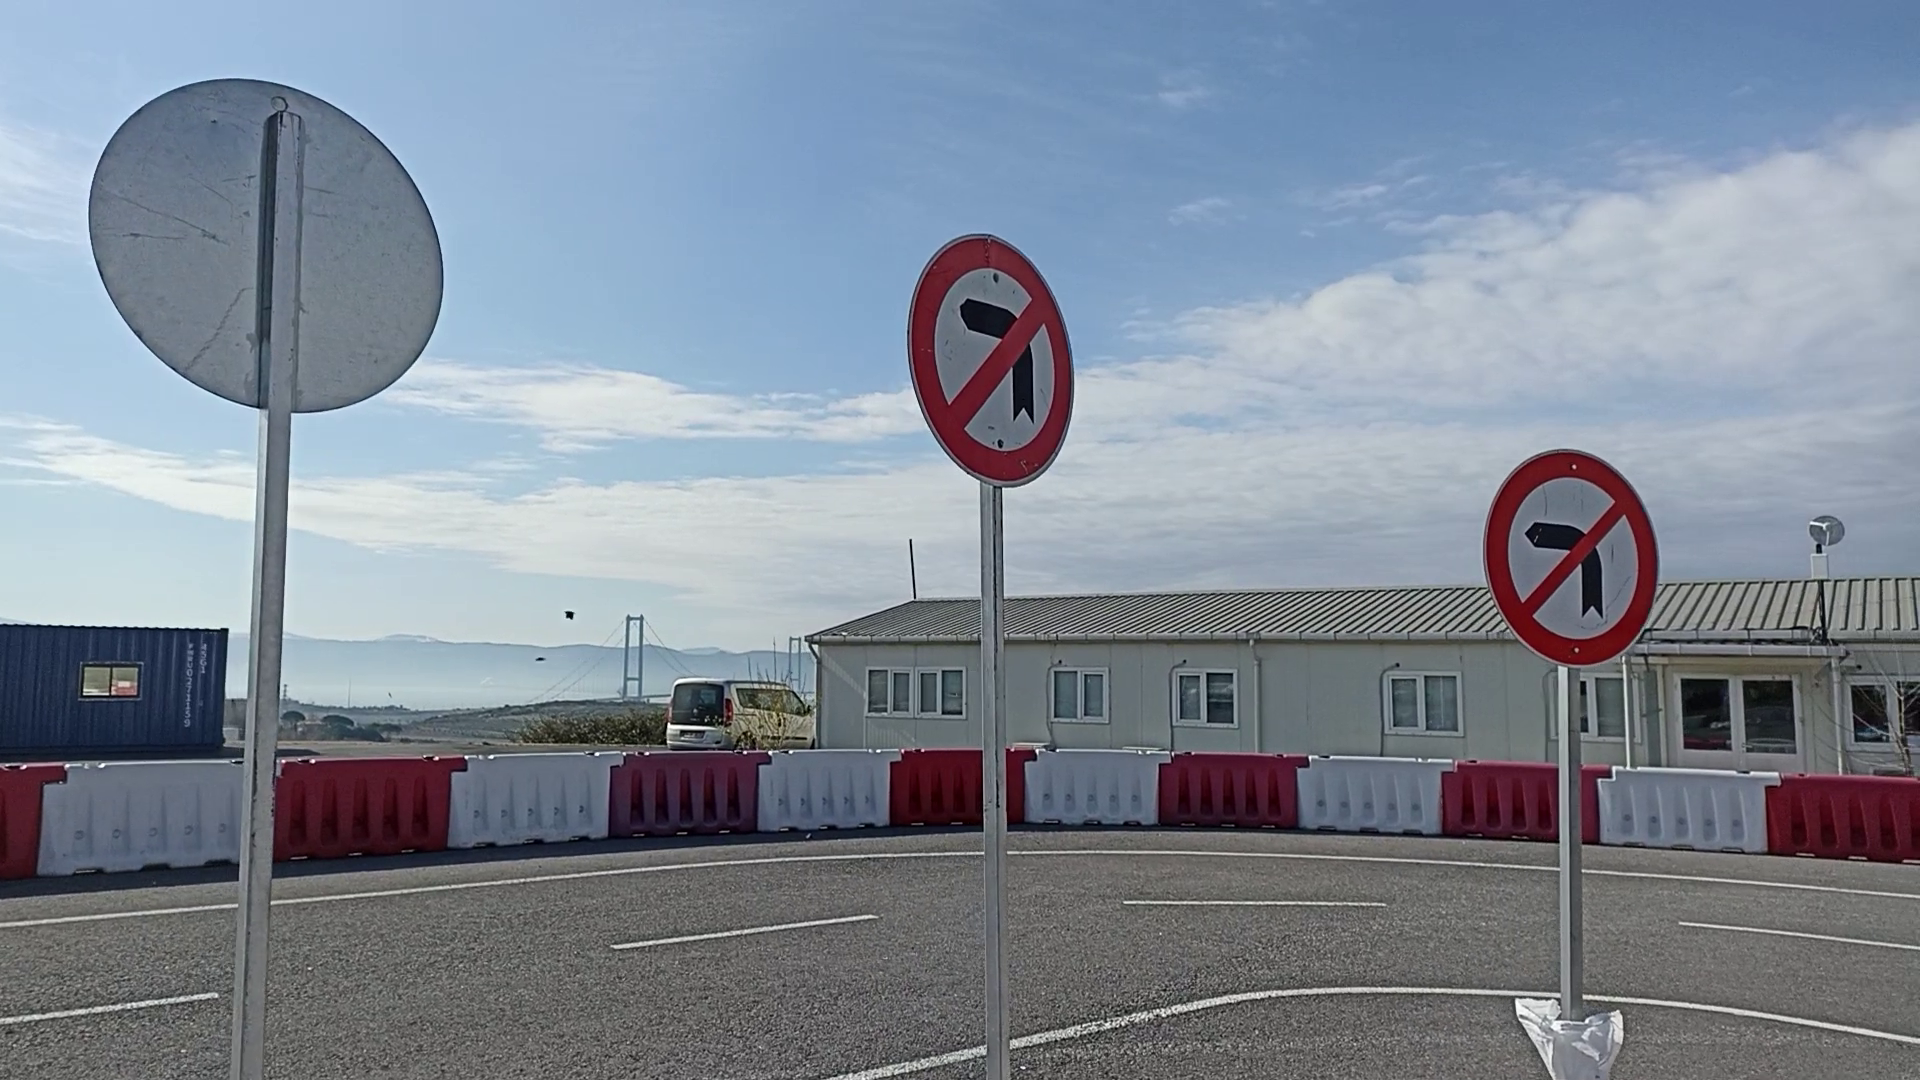noleft: (905, 229, 1077, 491), (1476, 444, 1664, 670)
